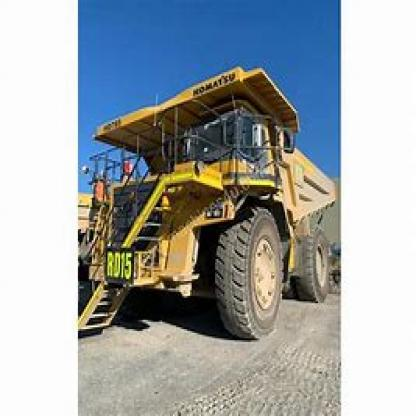dump_truck: (81, 57, 341, 353)
